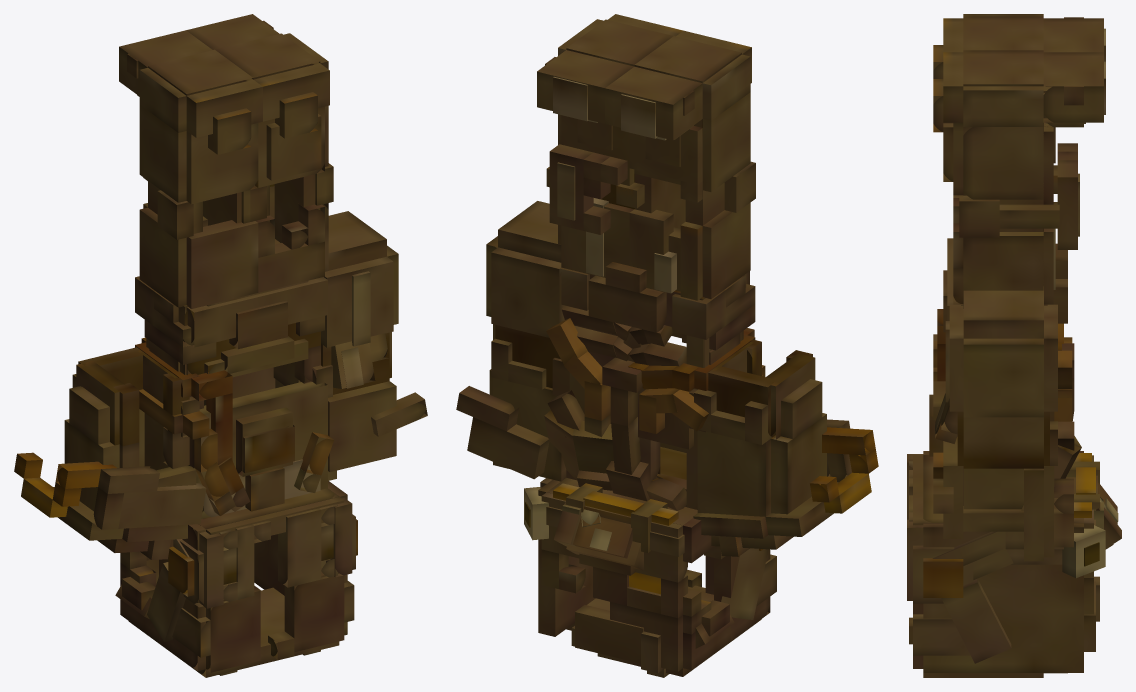
The model's file is x03_full_broken.obj.
3 renders of one model, left to right at view 1: azimuth 30°, elevation 25°; view 2: azimuth 150°, elevation 25°; view 3: azimuth 270°, elevation 25°, orthographic. The views are drawn at different scales.
Parts seen in each view (by area): view 1: Body, Head, RightArm, RightLeg, LeftArm, LeftLeg, RightBoot, LeftBoot; view 2: Body, Head, RightArm, RightLeg, LeftArm, LeftLeg, RightBoot, LeftBoot; view 3: Head, LeftArm, LeftLeg, LeftBoot, RightBoot, Body.
Boxes of the visible parts, box(x1,y1,x2,y2) form: Body: box(135, 276, 333, 519); Head: box(115, 481, 357, 677); RightArm: box(14, 347, 206, 559); RightLeg: box(139, 105, 258, 308); LeftArm: box(273, 211, 427, 480); LeftLeg: box(250, 105, 333, 292); RightBoot: box(119, 30, 262, 154); LeftBoot: box(186, 14, 329, 138); Body: box(544, 262, 765, 510); Head: box(524, 478, 776, 677); RightArm: box(693, 339, 878, 556); RightLeg: box(616, 92, 755, 300); LeftArm: box(456, 201, 566, 481); LeftLeg: box(546, 114, 644, 277); RightBoot: box(605, 30, 751, 140); LeftBoot: box(537, 14, 683, 123); Head: box(907, 451, 1121, 677); LeftArm: box(933, 286, 1073, 561); LeftLeg: box(943, 93, 1079, 308); LeftBoot: box(933, 50, 1105, 132); RightBoot: box(933, 14, 1105, 78); Body: box(929, 238, 1081, 510).
Bounding box in the file's own units: 21.49 × 32.8 × 10.69.
